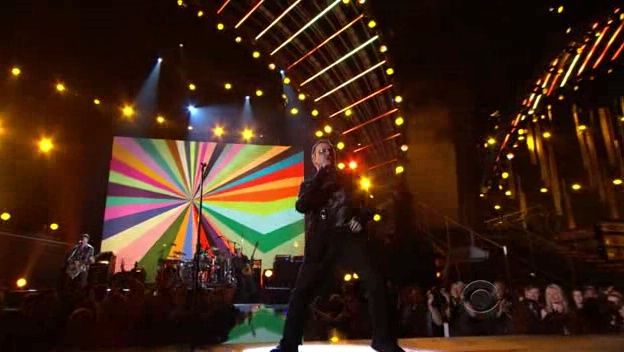person: (298, 140, 363, 259), (295, 140, 360, 259), (301, 140, 366, 259), (298, 137, 363, 256), (298, 143, 363, 262)
target_negative: (253, 234, 598, 348), (170, 254, 466, 327), (462, 44, 593, 195), (475, 56, 508, 246), (291, 334, 321, 339)
